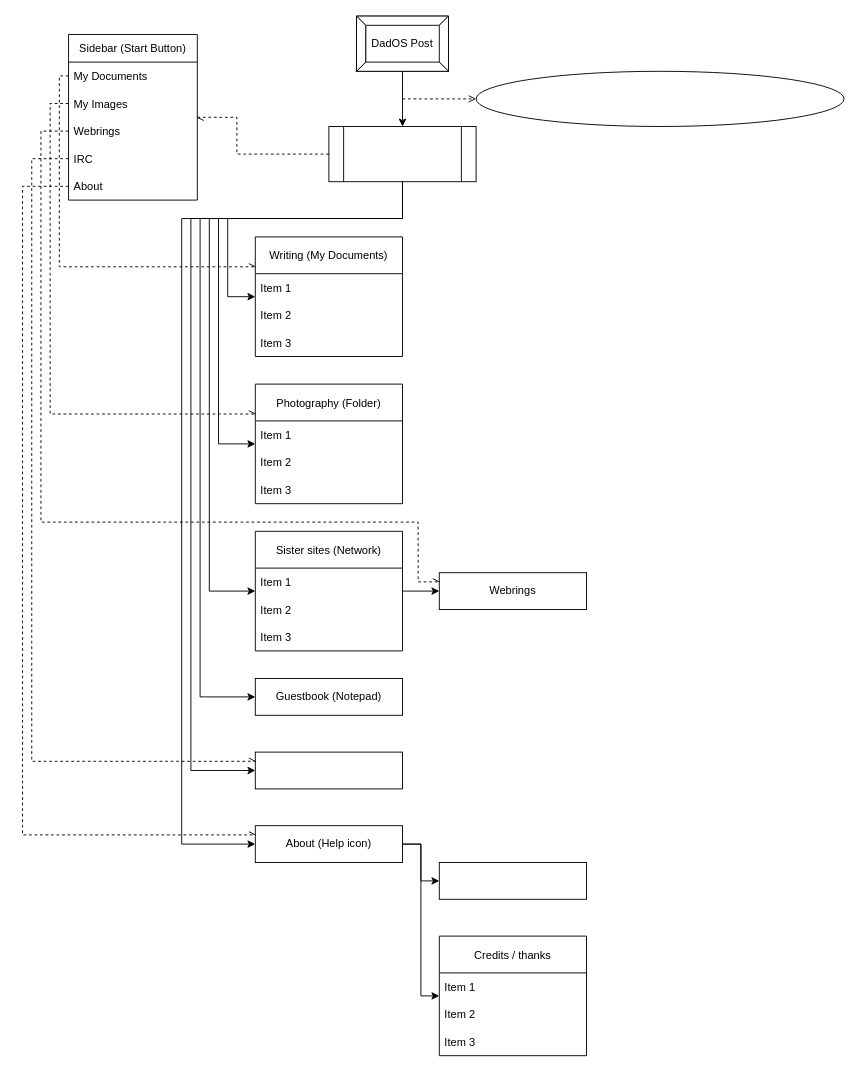
Some shapes in this 860 by 1072 pixel diagram are drawn without their labels. The shapes that lost their labels are listed below. From the top down, each one's centre as x and y in pixels, then its label:
At point (659, 98): "after 1st visit, optional to skip POST (w/ cookies, need to learn .js first)".
At point (402, 154): "Homepage [desktop]".
At point (328, 770): "Chatroom (Internet Explorer)".
At point (512, 880): "Bio".
